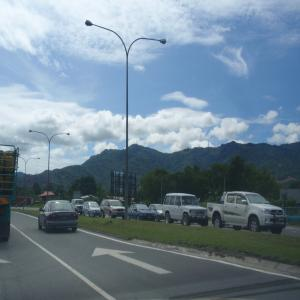Vehicle-registration-plate: (62, 217, 71, 222)
